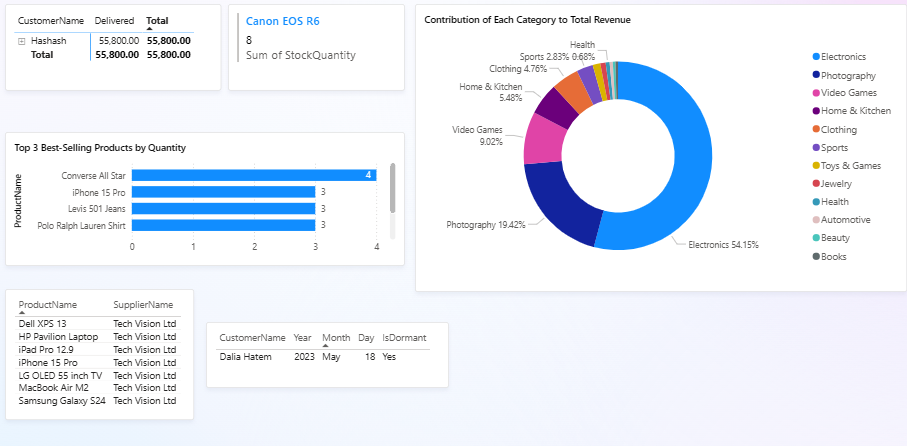

Layout of this report page (visuals, bound fields, positions):
{"tool":"powerbi","page":{"name":"Page 1","canvas":[1280,720],"ordinal":0},"visuals":[{"type":"pivotTable","fields":{"Rows":["Customers.CustomerName","Orders.OrderDate.Variation.Date Hierarchy.Year","Orders.OrderDate.Variation.Date Hierarchy.Quarter","Orders.OrderDate.Variation.Date Hierarchy.Month","Orders.OrderDate.Variation.Date Hierarchy.Day","Orders.OrderID"],"Values":["OrderItems.TotalOrderCost"],"Columns":["Orders.Status"]},"box":[20.9,20.9,301.5,121.4],"z":0},{"type":"barChart","title":"Top 3 Best-Selling Products by Quantity","fields":{"Y":["OrderItems.Quantity"],"Category":["Products.ProductName"]},"box":[20.9,199.6,558.3,187],"z":1000},{"type":"donutChart","title":"Contribution of Each Category to Total Revenue","fields":{"Category":["Categories.CategoryName"],"Y":["OrderItems.TotalOrderCost"]},"box":[593.2,20.9,686.8,402],"z":2000},{"type":"tableEx","fields":{"Values":["Customers.CustomerName","Customers.RegistrationDate.Variation.Date Hierarchy.Year","Customers.RegistrationDate.Variation.Date Hierarchy.Month","Customers.RegistrationDate.Variation.Date Hierarchy.Day","Customers.IsDormant"]},"box":[301.5,464.8,339.2,92.1],"z":3000},{"type":"tableEx","fields":{"Values":["Products.ProductName","Suppliers.SupplierName"]},"box":[20.9,418.8,263.8,182.9],"z":4000},{"type":"multiRowCard","fields":{"Values":["Products.ProductName","Inventory.StockQuantity"]},"box":[332.2,20.9,247.1,121.4],"z":5000}]}

Visuals, with their boxes on the page's 1280x720 design canvas (x1, y1, x2, y2). These are canvas units, not pixel positions in the 907x446 screenshot, which may show the page scaled, cropped or inside an application window:
pivotTable - Customers.CustomerName x Orders.OrderDate.Variation.Date Hierarchy.Year: x1=21, y1=21, x2=322, y2=142
"Top 3 Best-Selling Products by Quantity" barChart: x1=21, y1=200, x2=579, y2=387
"Contribution of Each Category to Total Revenue" donutChart: x1=593, y1=21, x2=1280, y2=423
tableEx - Customers.CustomerName x Customers.RegistrationDate.Variation.Date Hierarchy.Year: x1=302, y1=465, x2=641, y2=557
tableEx - Products.ProductName x Suppliers.SupplierName: x1=21, y1=419, x2=285, y2=602
multiRowCard - Products.ProductName x Inventory.StockQuantity: x1=332, y1=21, x2=579, y2=142
